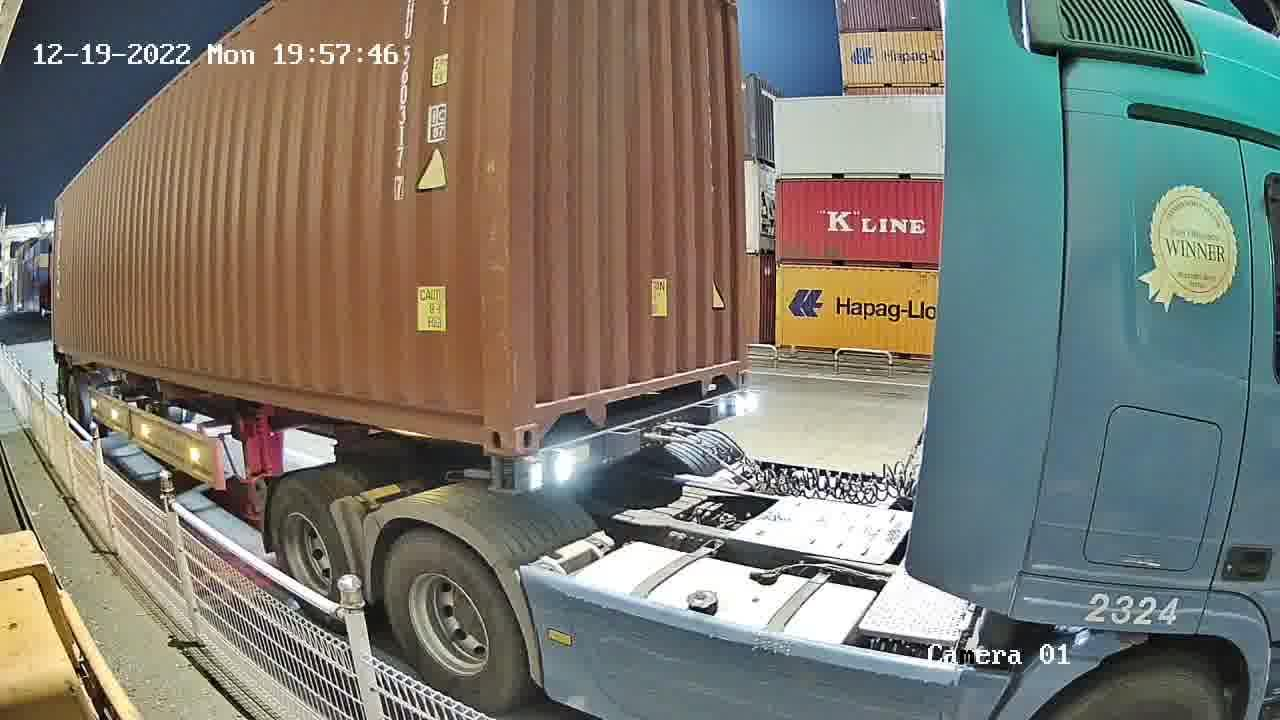Chassis: (487, 392, 753, 492)
Cone: (489, 456, 518, 488)
Hole_L: (514, 377, 566, 453)
Hole_R: (454, 378, 512, 455), (716, 340, 751, 391)
Tire: (387, 533, 519, 712), (271, 481, 347, 598)
